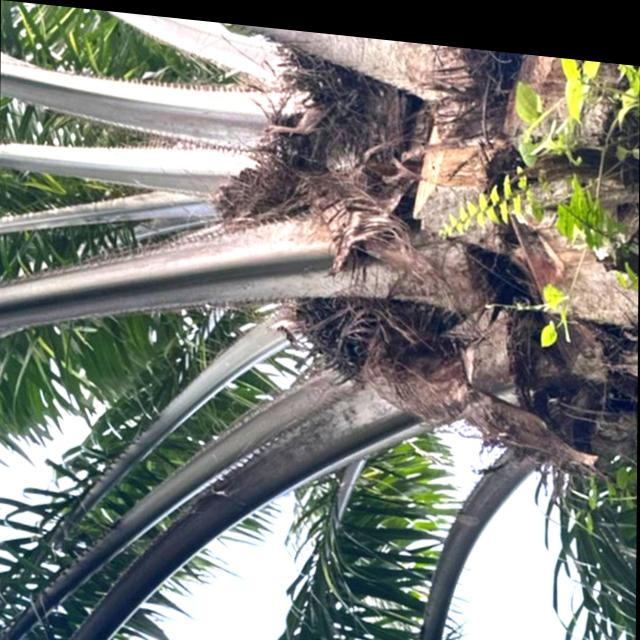unripe: (278, 277, 449, 390)
